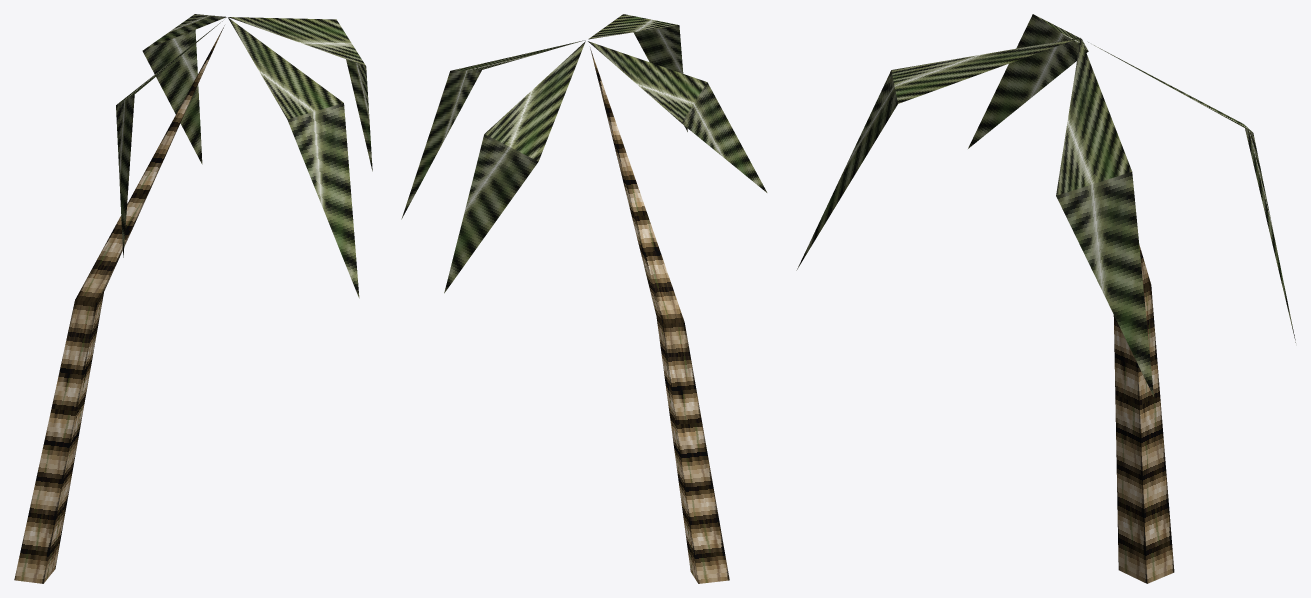
3 views of the same model, side by side, from view 1: azimuth 30°, elevation 25°; view 2: azimuth 150°, elevation 25°; view 3: azimuth 270°, elevation 25° (orthographic). The views are drawn at different scales.
Parts seen in each view (by area): view 1: prim149-palm tree; view 2: prim149-palm tree; view 3: prim149-palm tree.
Part boxes in pixels (box(x1,y1,x2,y2)): prim149-palm tree: box(14, 14, 372, 583); prim149-palm tree: box(401, 14, 767, 583); prim149-palm tree: box(796, 14, 1295, 583).
Bounding box in the file's own units: 359 × 509 × 368.
Materials: 2 (2 with a texture image).
